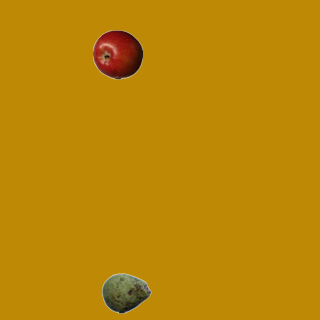Apple Braeburn: (92, 29, 142, 79)
Pear Stone: (101, 268, 151, 318)
